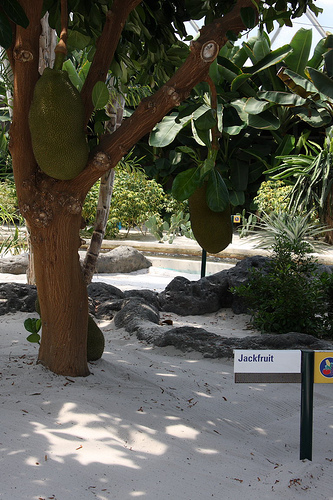jackfruit: (26, 43, 92, 180), (190, 169, 235, 255)
